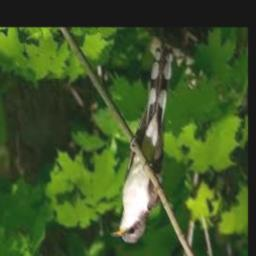Cuckoo: (112, 47, 174, 244)
